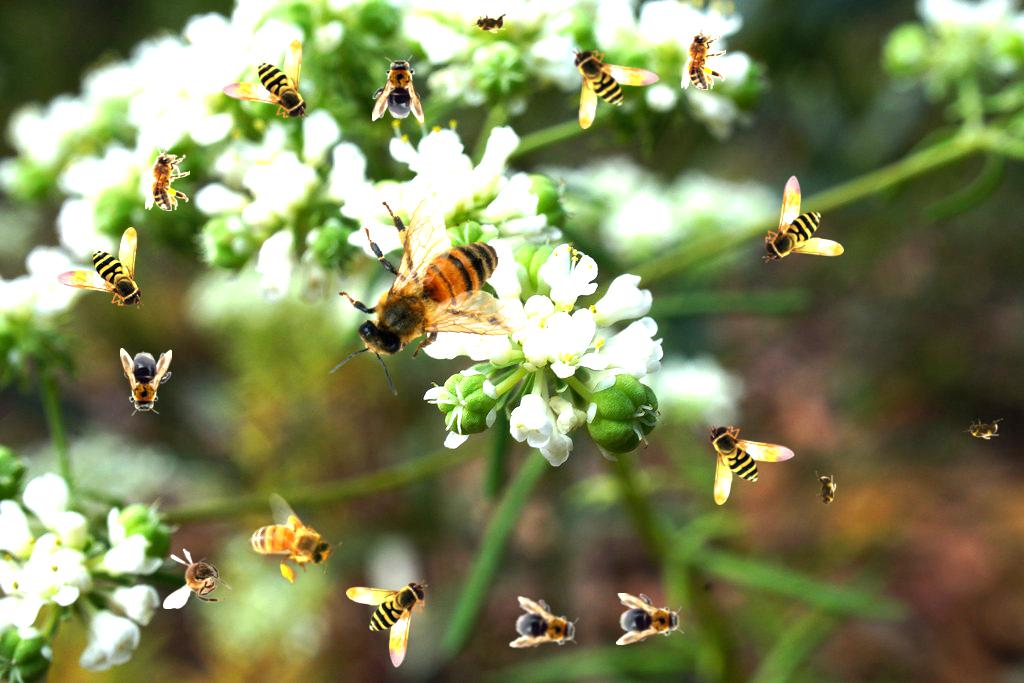Bee: (313, 186, 534, 404), (232, 486, 348, 599), (346, 580, 428, 668), (762, 175, 844, 263), (56, 227, 144, 309), (707, 423, 795, 505), (572, 47, 660, 129), (221, 39, 309, 121), (508, 595, 584, 657), (163, 548, 233, 609), (120, 348, 172, 416), (616, 593, 684, 645), (372, 55, 424, 123), (681, 24, 726, 90), (145, 145, 190, 211), (470, 12, 510, 34), (963, 418, 1003, 440), (815, 471, 837, 511)
